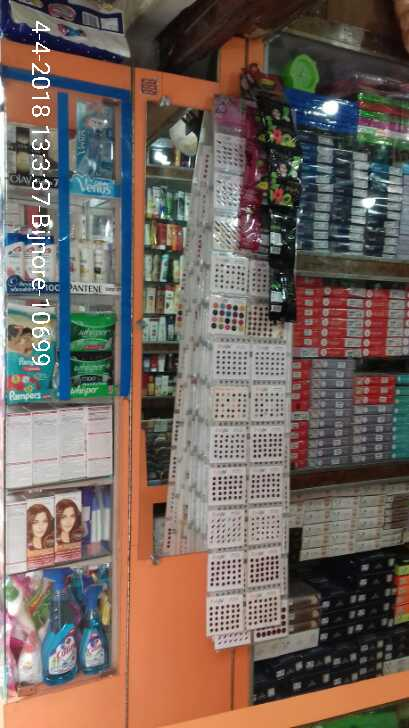venus: (82, 101, 113, 173)
